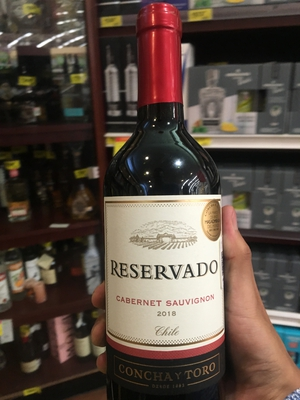reservado cabernet sauvignon: (96, 15, 237, 400)
